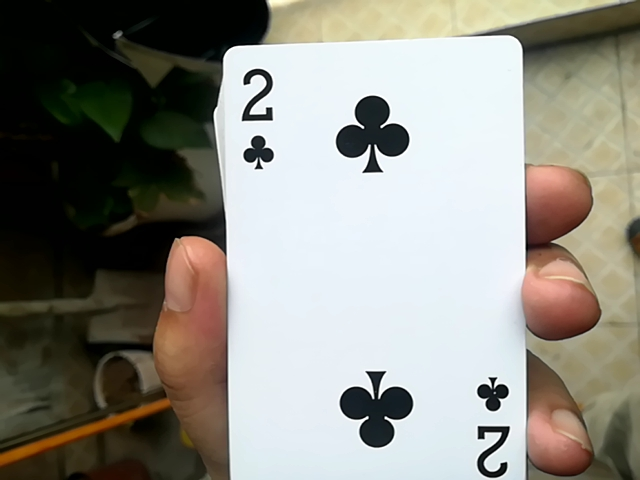mh 2: (203, 30, 533, 480)
